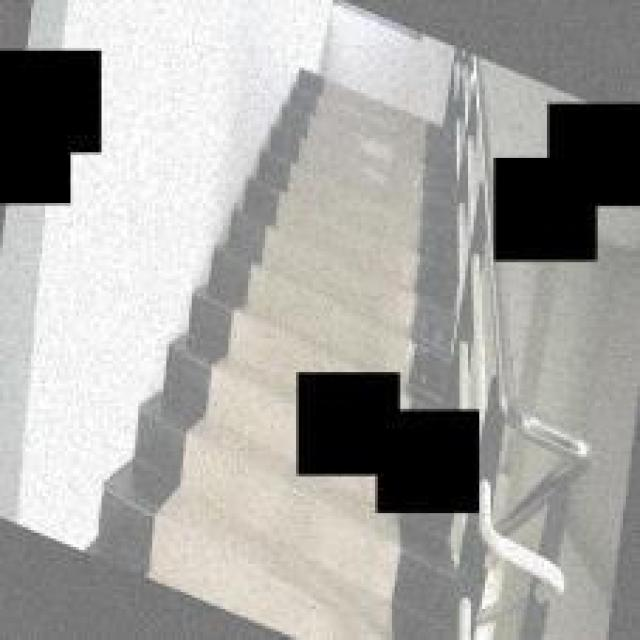upstair: (288, 55, 455, 354)
